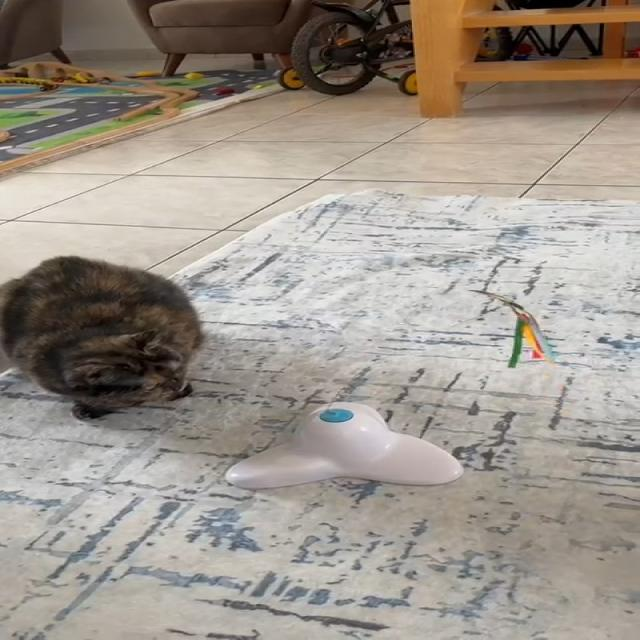authorized: (0, 254, 205, 420)
